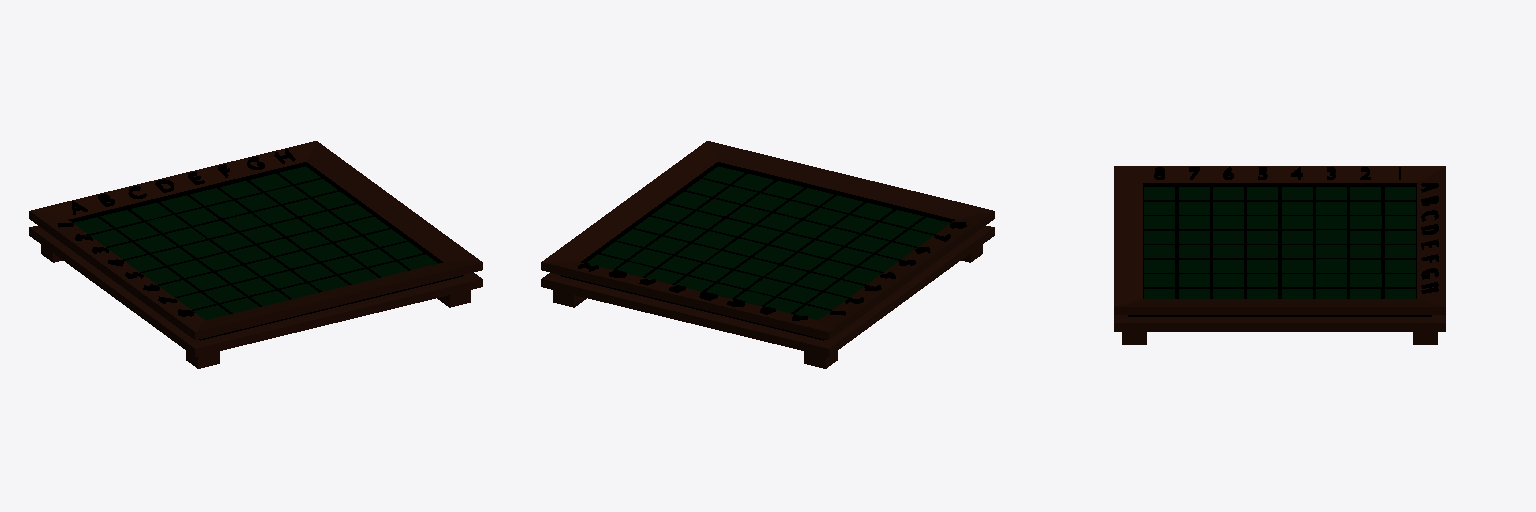
File: Board.obj
3 views of the same model, side by side, from view 1: azimuth 30°, elevation 25°; view 2: azimuth 150°, elevation 25°; view 3: azimuth 270°, elevation 25° (orthographic).
Visible parts, largest first — view 1: Cube_Cube.001; view 2: Cube_Cube.001; view 3: Cube_Cube.001.
Boxes of the visible parts, <box> form: Cube_Cube.001: <box>29,141,482,368</box>; Cube_Cube.001: <box>541,141,994,368</box>; Cube_Cube.001: <box>1114,166,1445,344</box>.
Size of the model in its own units: 6 by 0.887 by 6.